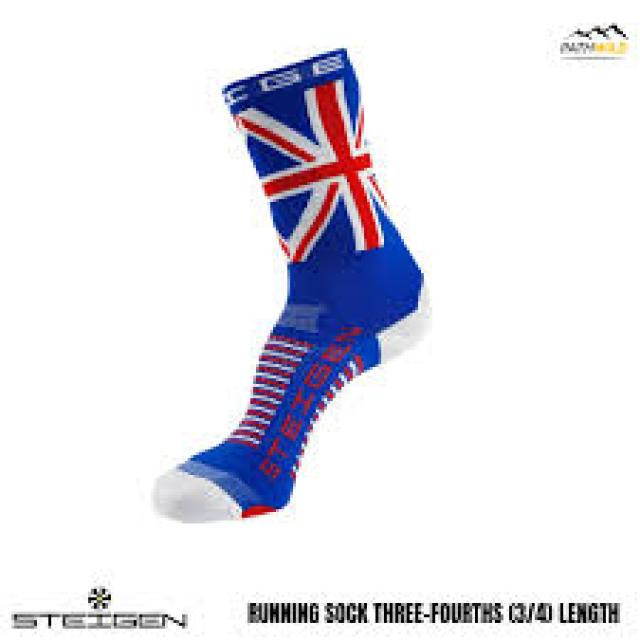sock: (151, 46, 424, 520)
